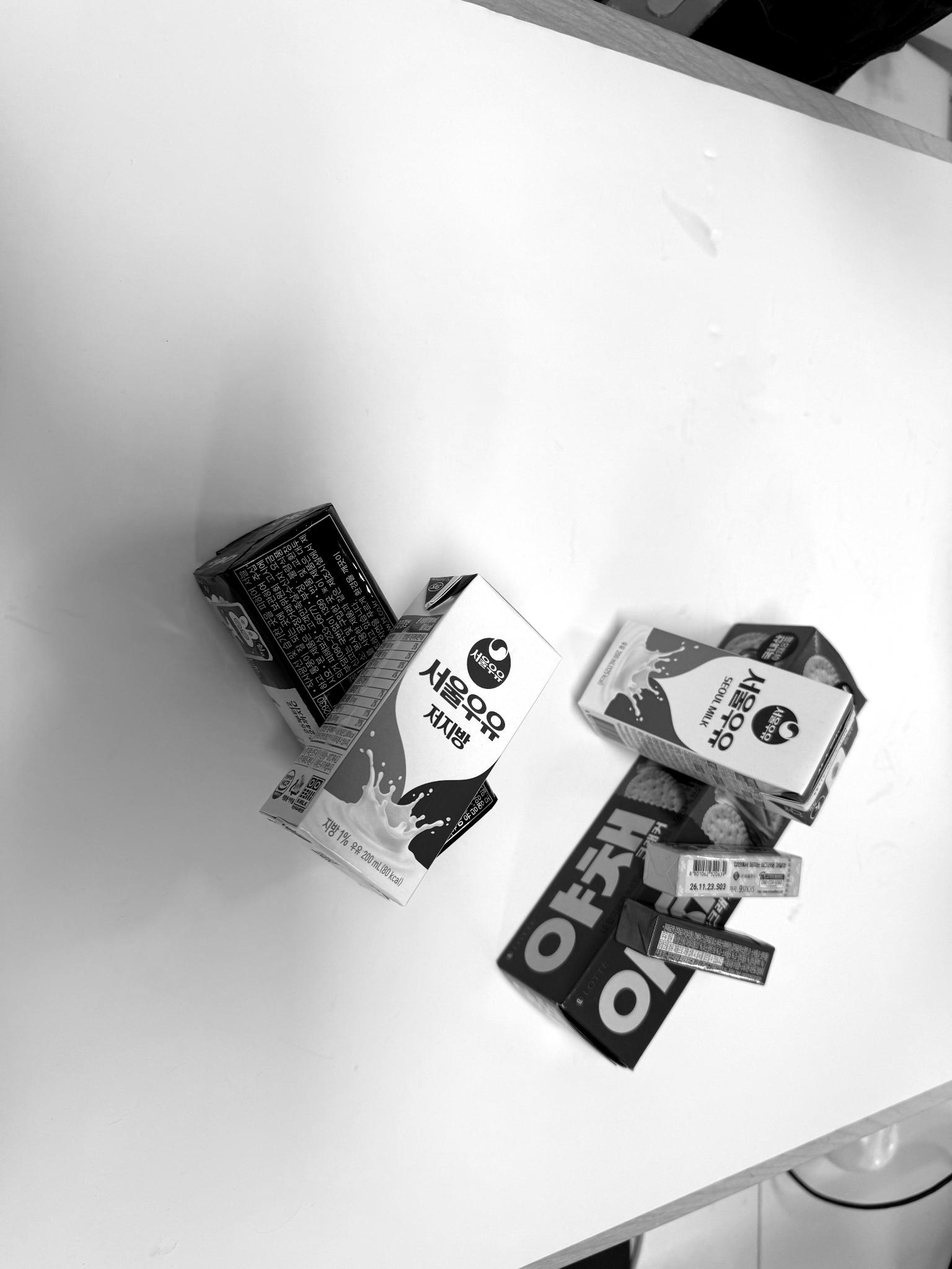cracker_ace: (195, 504, 397, 739)
cracker_vege: (499, 758, 796, 1068), (714, 625, 868, 714)
gum_green: (616, 900, 774, 985)
gum_yellow: (645, 843, 802, 902)
milk_blue: (261, 575, 560, 906)
milk_green: (579, 621, 858, 823)
